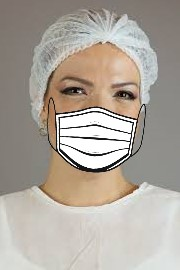with_mask_and_cap: (33, 9, 152, 173)
